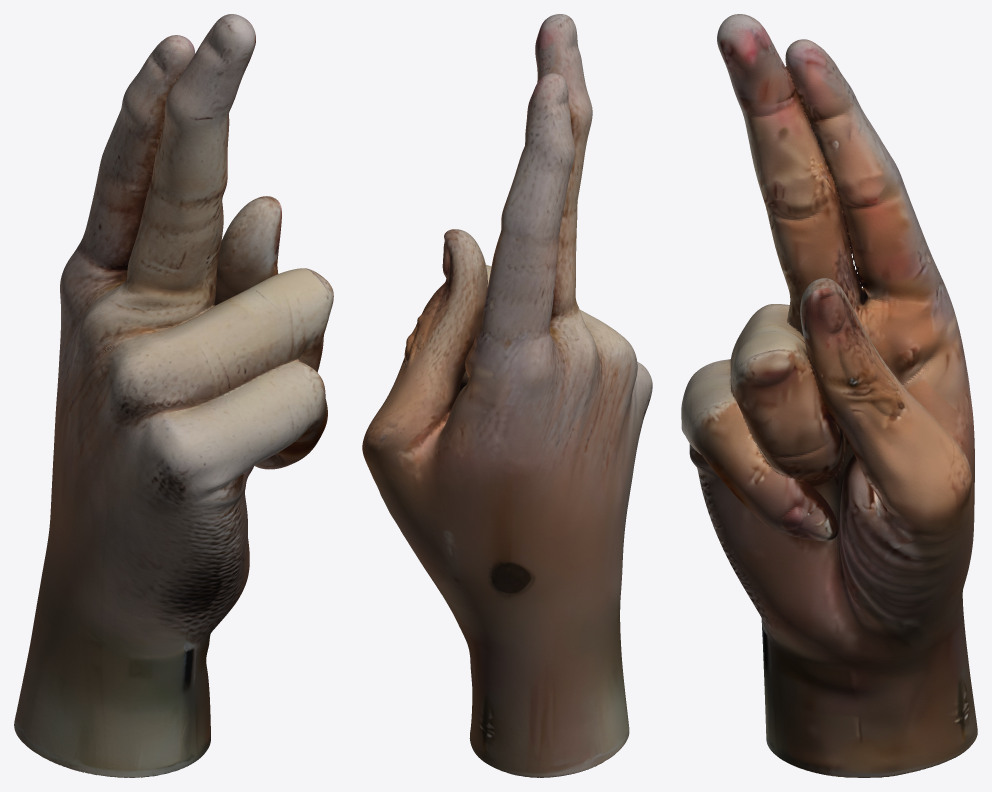
The model's file is letter_U.glb.
3 views of the same model, side by side, from view 1: azimuth 30°, elevation 25°; view 2: azimuth 150°, elevation 25°; view 3: azimuth 270°, elevation 25° (orthographic). The views are drawn at different scales.
Visible parts, largest first — view 1: tripo_node_eaa2fa53-9619-47da-a7cb-bc529316b4e2; view 2: tripo_node_eaa2fa53-9619-47da-a7cb-bc529316b4e2; view 3: tripo_node_eaa2fa53-9619-47da-a7cb-bc529316b4e2.
Part boxes in pixels (x1=…): tripo_node_eaa2fa53-9619-47da-a7cb-bc529316b4e2: x1=14, y1=14, x2=333, y2=777; tripo_node_eaa2fa53-9619-47da-a7cb-bc529316b4e2: x1=362, y1=14, x2=652, y2=777; tripo_node_eaa2fa53-9619-47da-a7cb-bc529316b4e2: x1=681, y1=14, x2=977, y2=777.
Bounding box in the file's own units: 0.3487 × 1 × 0.3582.
1 material, 1 textured.
